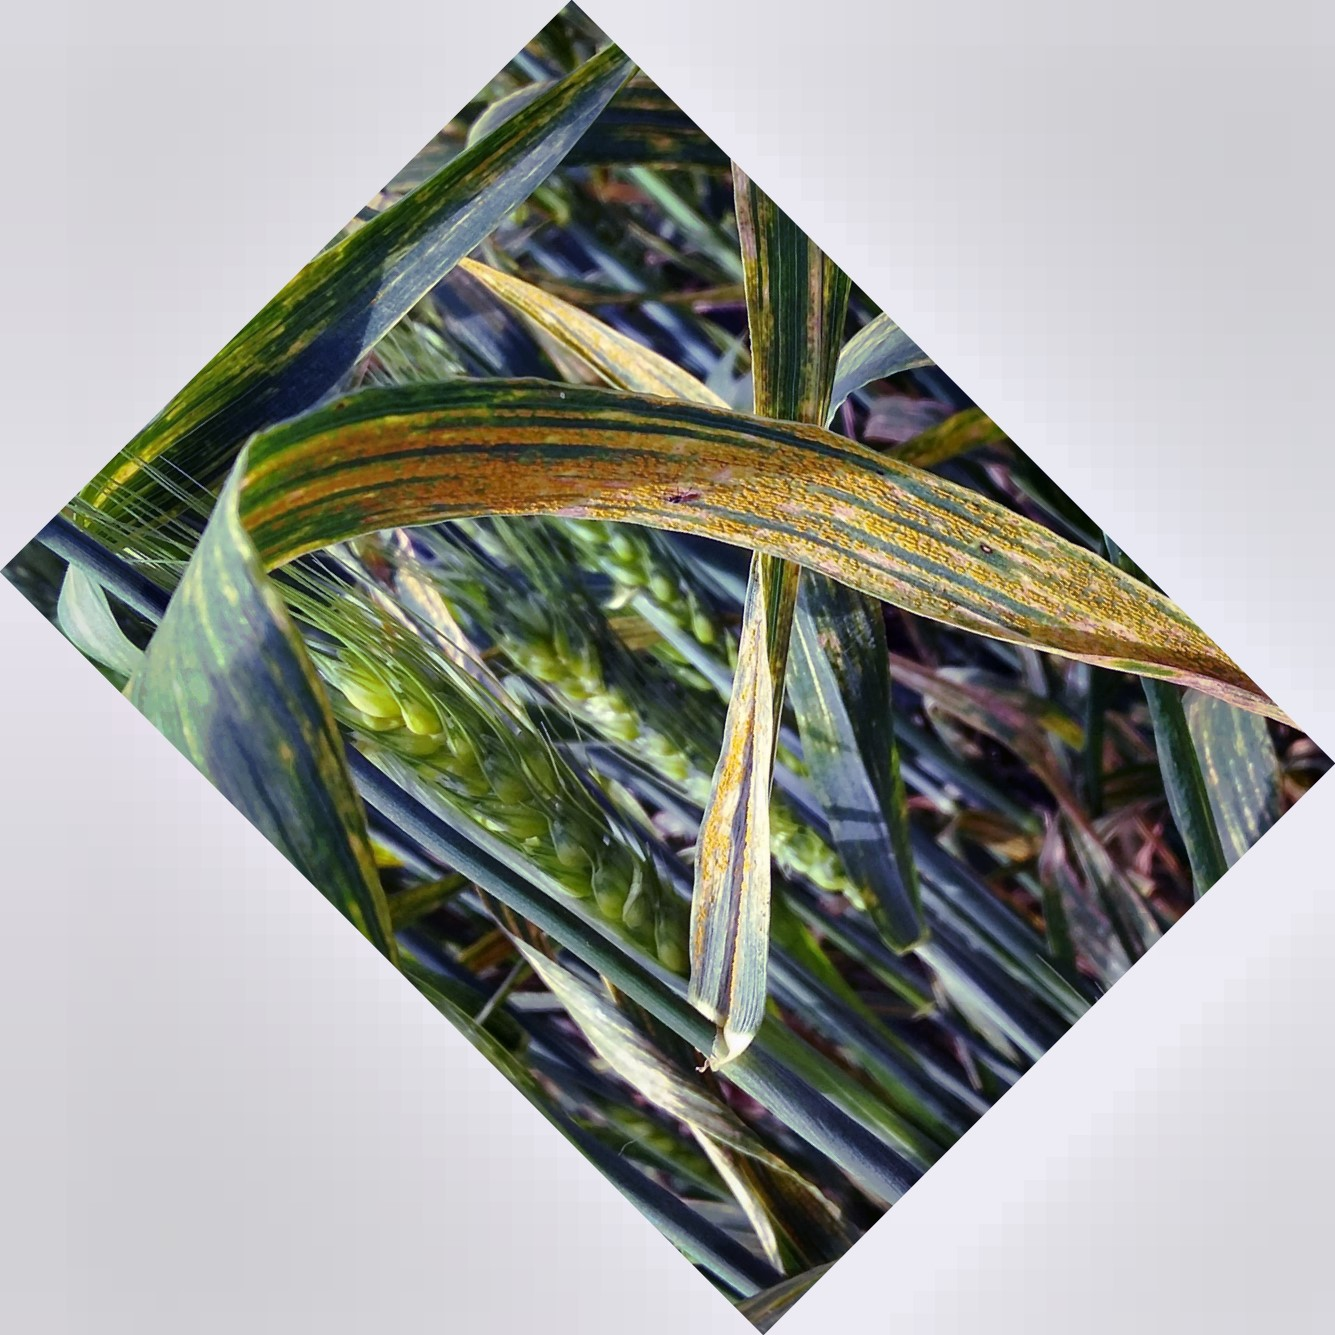Leaf Rust: (408, 381, 1258, 676)
